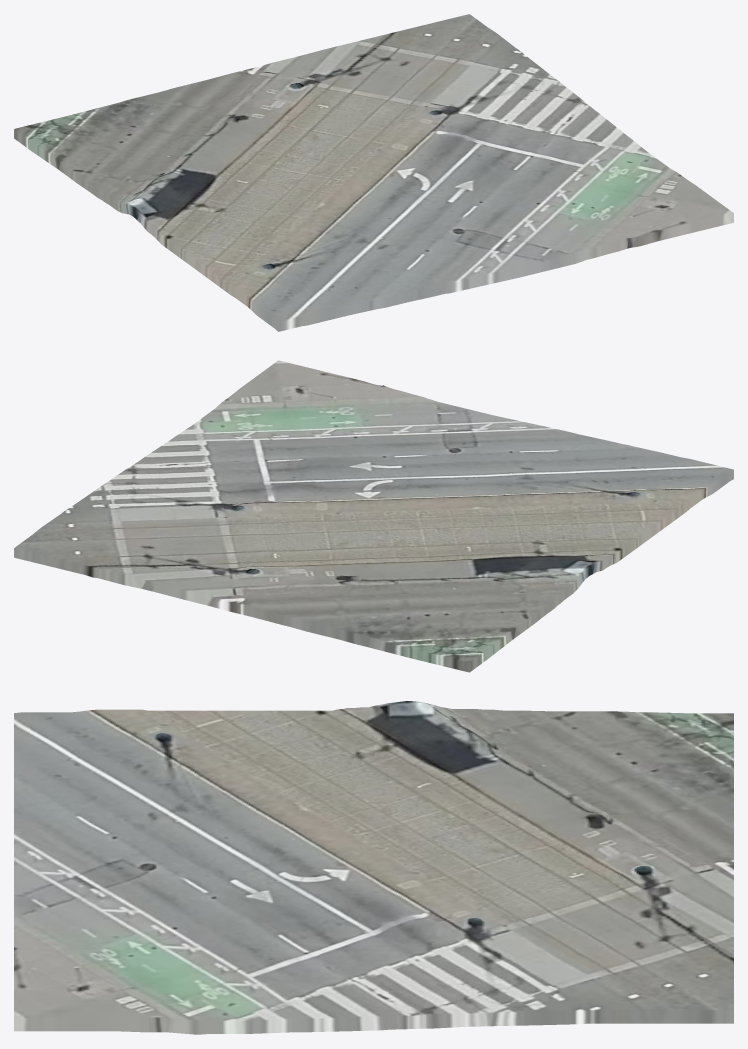
File: z20-167779-405207-h0-yup-uvflip-v3-world.glb
3 views of the same model, one above another, from view 1: azimuth 30°, elevation 25°; view 2: azimuth 150°, elevation 25°; view 3: azimuth 270°, elevation 25° (orthographic). The views are drawn at different scales.
Bounding box in the file's own units: 30.16 × 1.44 × 30.32.
1 material, 1 textured.
